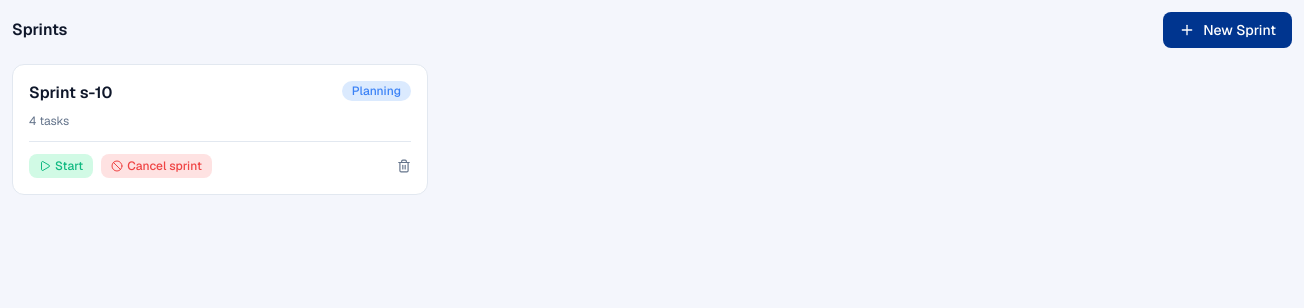
Test: R39/R37 — the backlog sweep is reported, not merely done › cancelling names it too — an abandoned sprint strands work exactly as a closed one does
Click the button with test id "sprint-cancel-s-10" at (157,166), box [101,154,212,178]
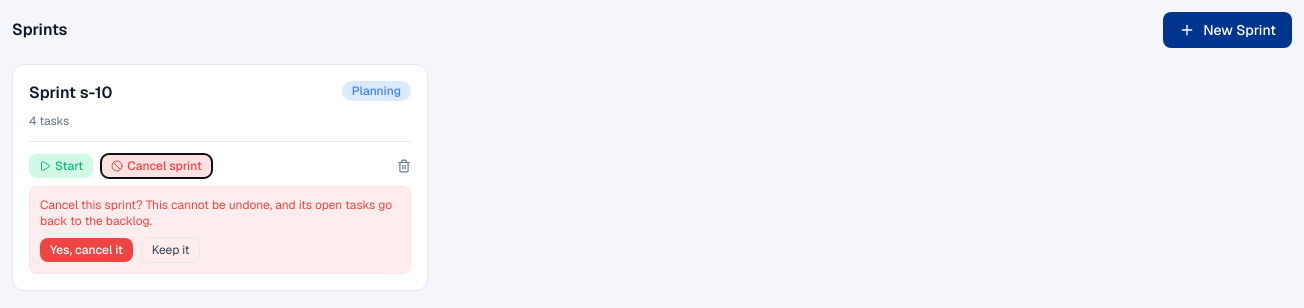
Click the button with test id "sprint-cancel-yes-s-10" at (86,250), box [40,238,133,262]
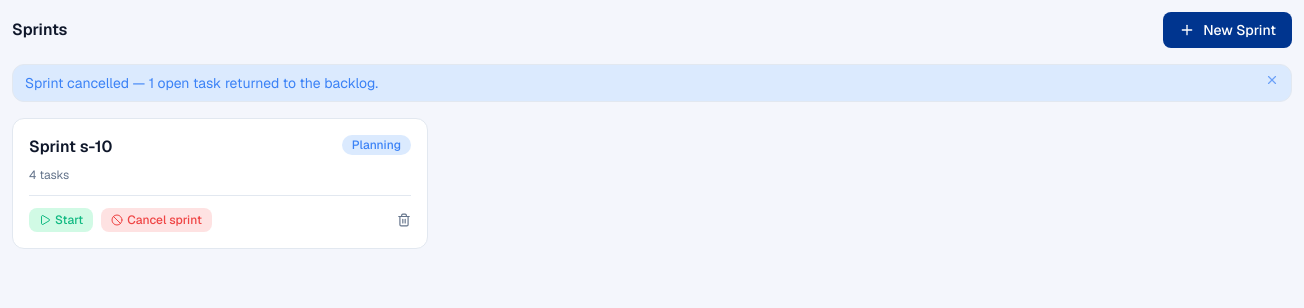
Now the message with test id "sprint-close-notice" shows "1 open task returned to the backlog", box [25,74,378,92]
